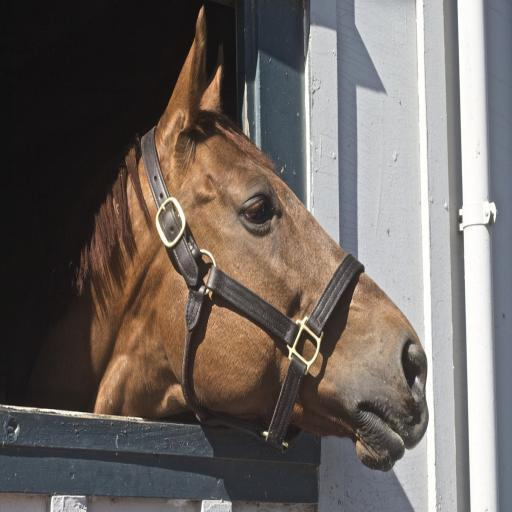horse: (23, 6, 429, 478)
